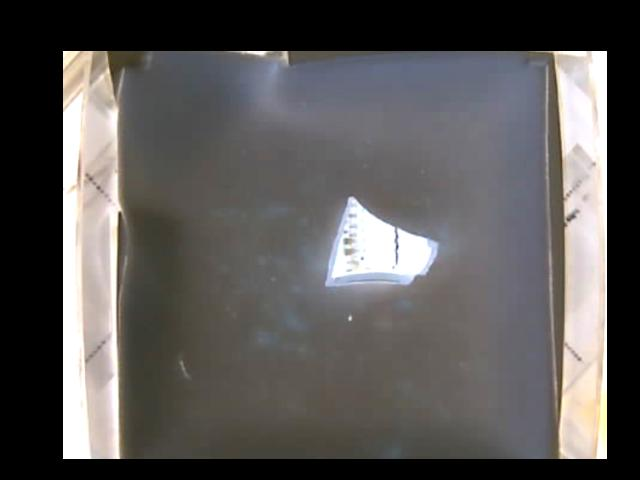China: (325, 197, 439, 290)
